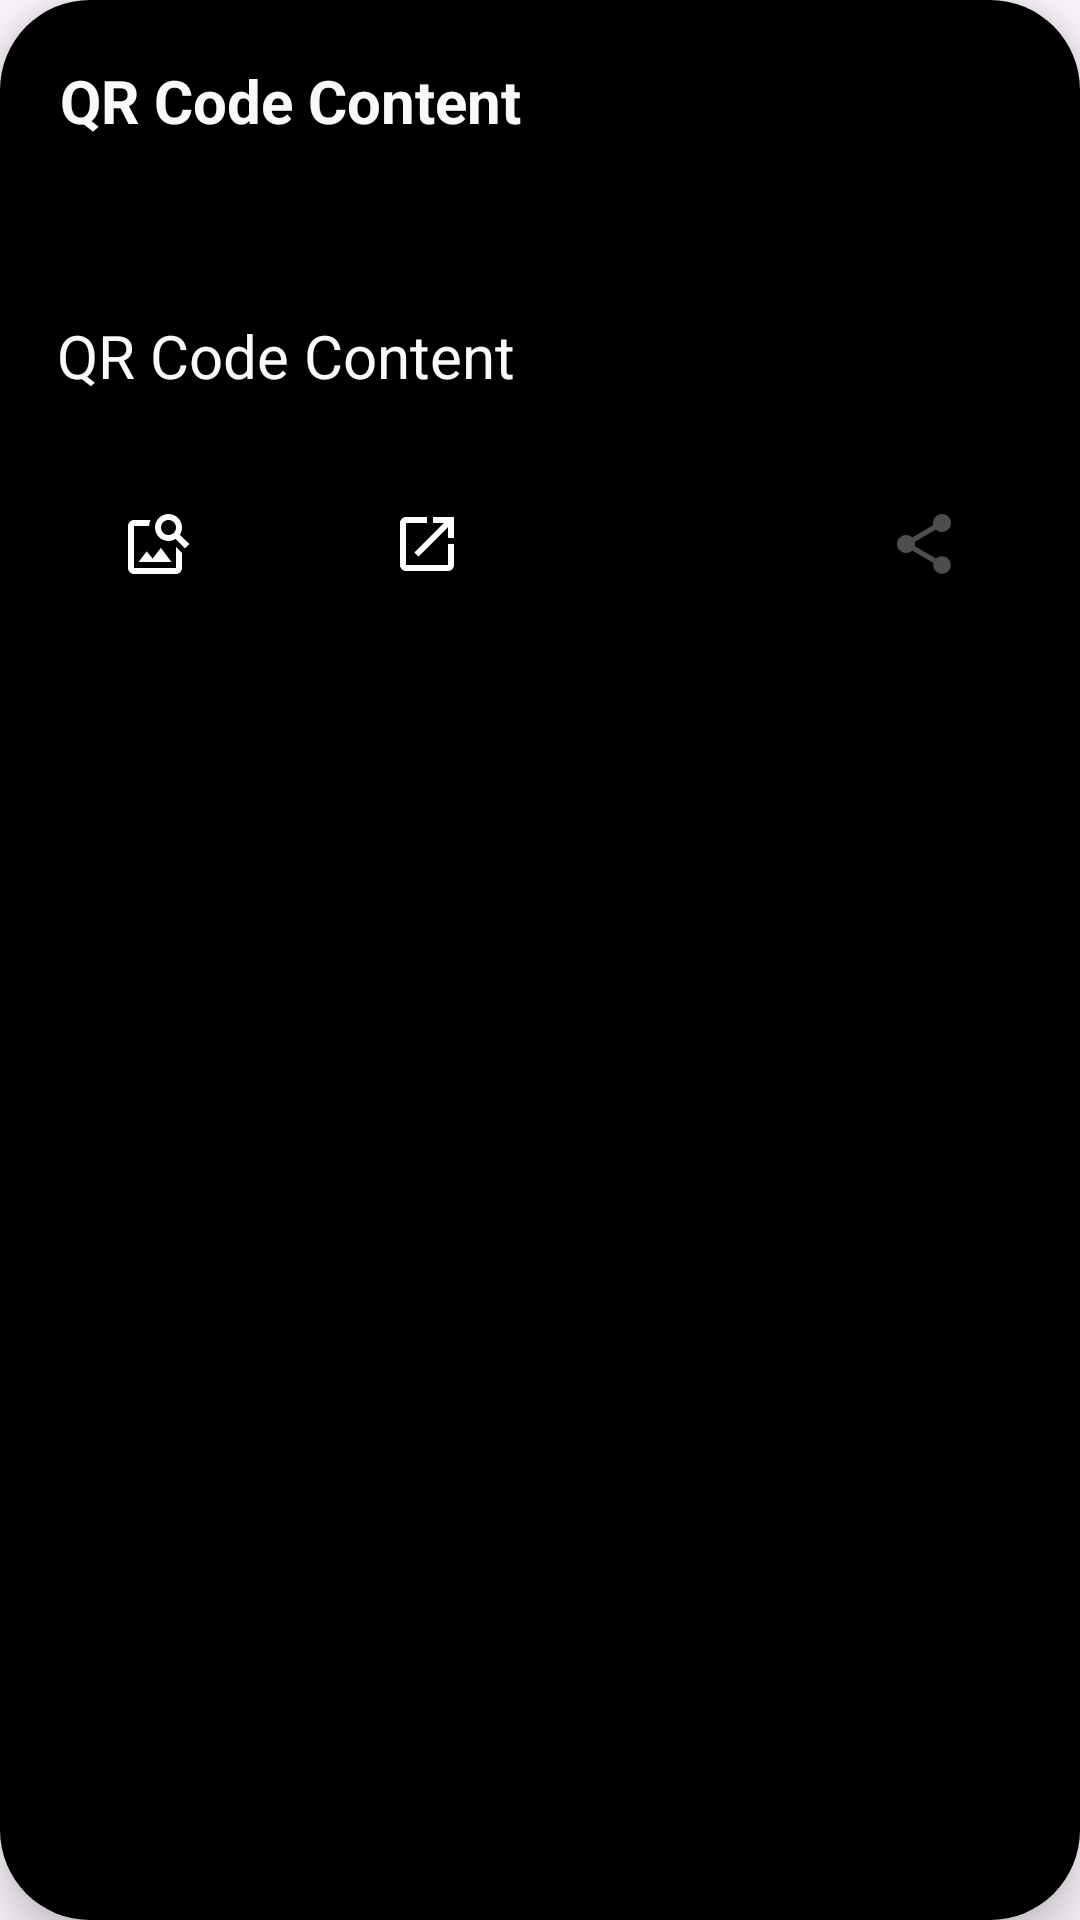

Icons on this 1080*1920 Android screen, each with the point to tap as point (x, y):
open in app: point (427, 544)
search: point (158, 544)
share: point (924, 544)
